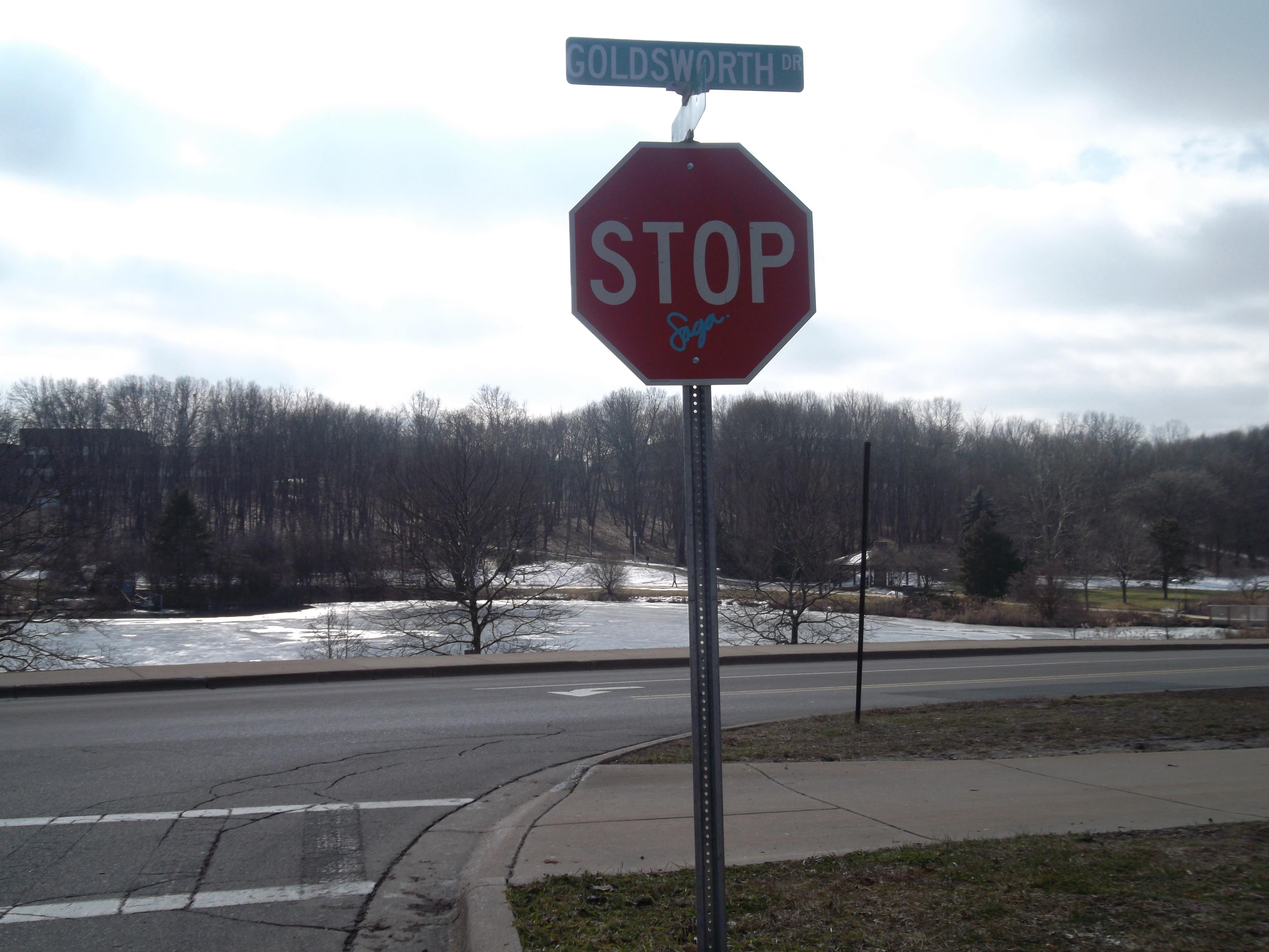Stop: (567, 142, 819, 381)
